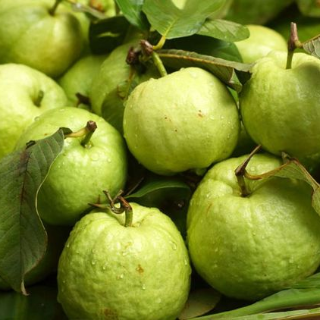oi: (187, 153, 320, 302), (57, 201, 191, 320), (123, 66, 236, 168)
